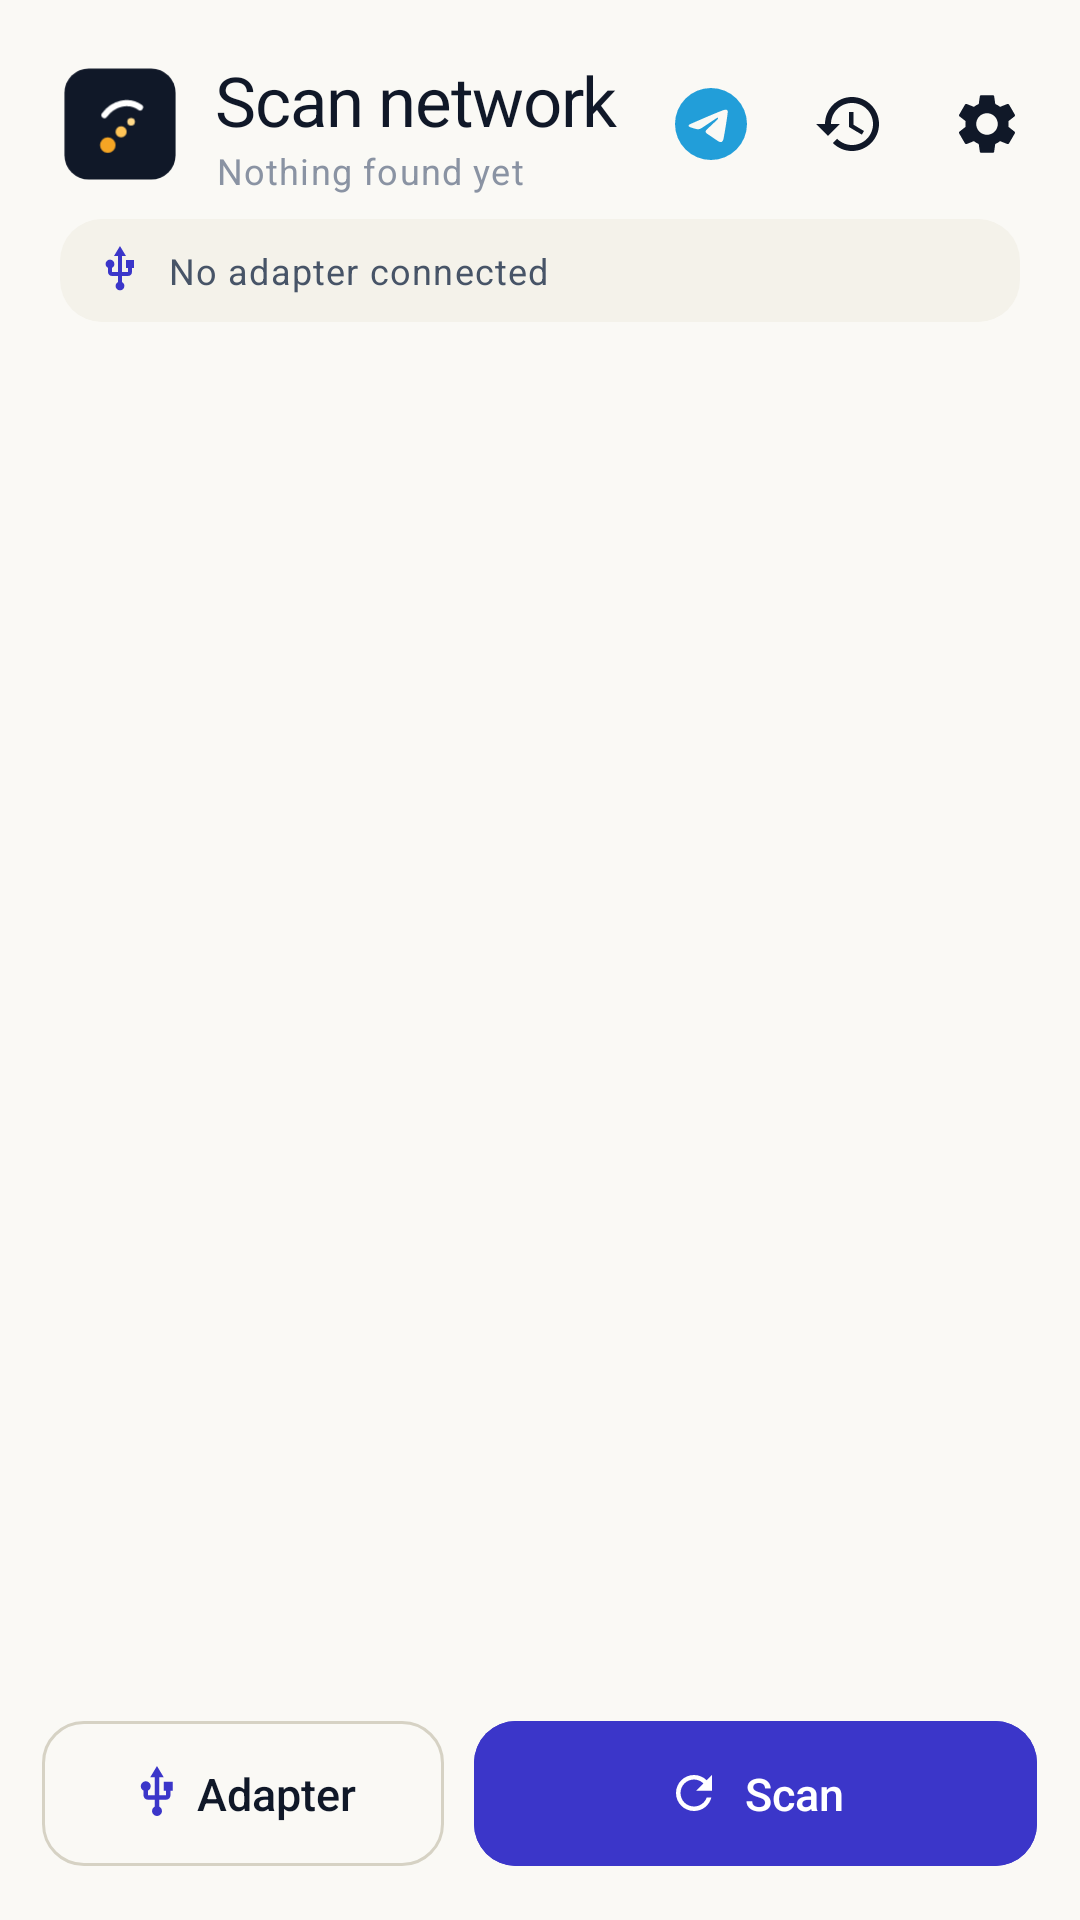

Named icons in this screenshot (1080px x 1920px) and their centers, (x,y):
History: (847,124)
Settings: (987,124)
